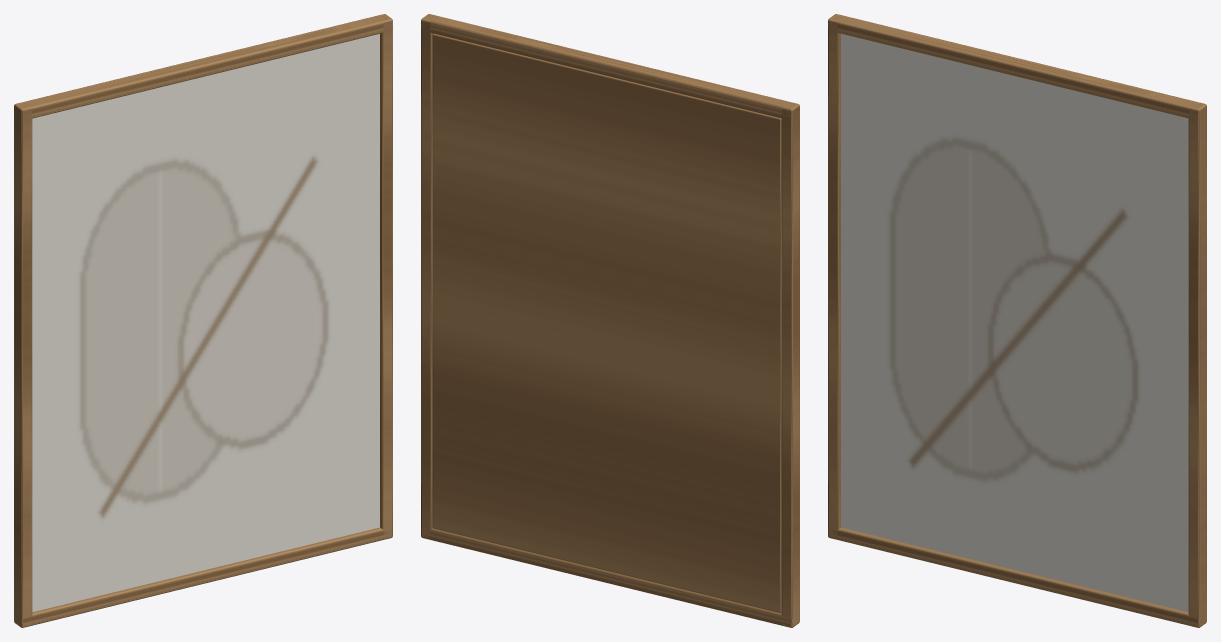
The model's file is obj_decor_framed_art.glb.
3 views of the same model, side by side, from view 1: azimuth 30°, elevation 25°; view 2: azimuth 150°, elevation 25°; view 3: azimuth 330°, elevation 25° (orthographic).
Visible parts, largest first — view 1: obj_decor_framed_art; view 2: obj_decor_framed_art; view 3: obj_decor_framed_art.
Part boxes in pixels (x1,y1,x2,y2): obj_decor_framed_art: (14, 14, 392, 627); obj_decor_framed_art: (421, 14, 799, 627); obj_decor_framed_art: (828, 14, 1206, 627).
Bounding box in the file's own units: 0.9 × 1.2 × 0.035.
2 materials, 2 textured.
